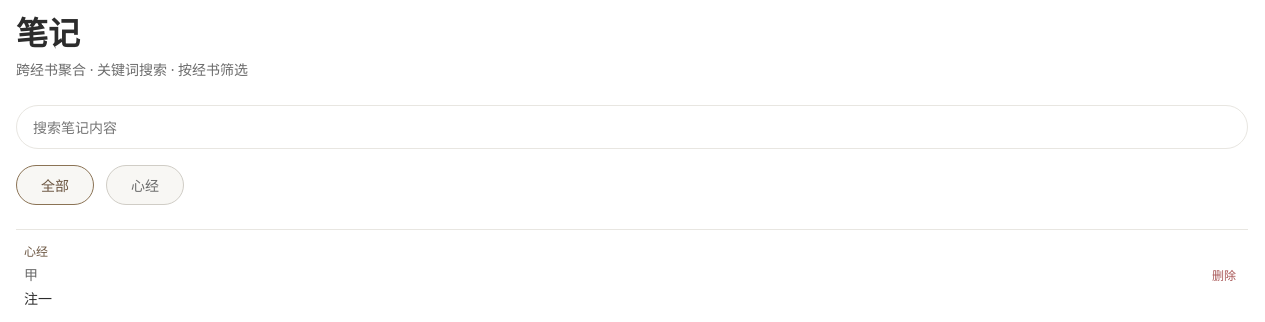
NotesView（§9 T09 笔记跳转） › 删除笔记后列表更新
What coordinates should you click on to do the following:
click the button with class "notes__remove"
I would click on:
 (1224, 275)
Its box is [1200, 255, 1248, 295].
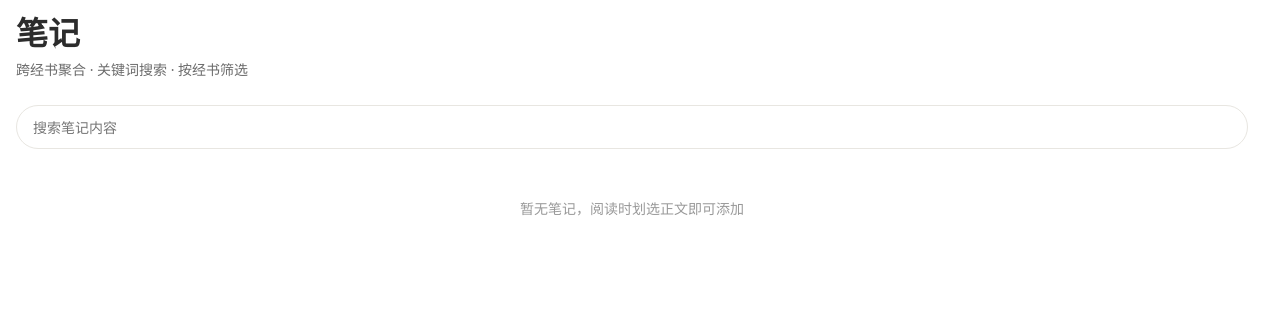
Expected: no buttons with class "notes__entry" are shown
Expected: the text "暂无笔记" is shown, [520, 199, 744, 218]
